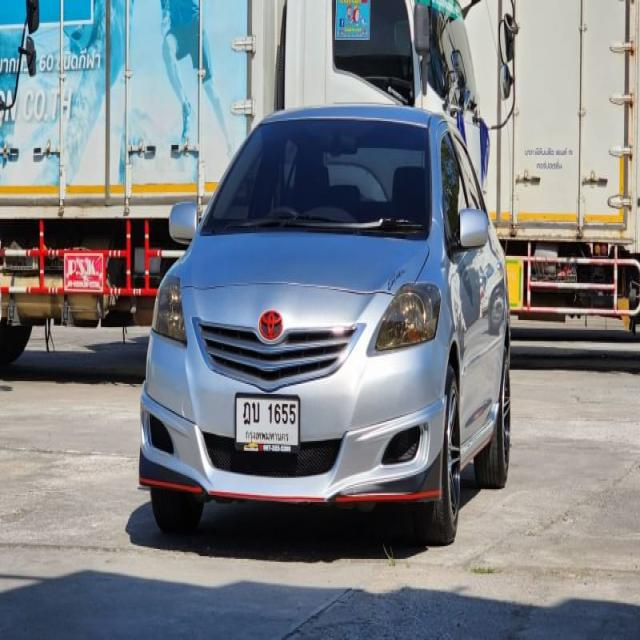license_plate: (232, 394, 301, 468)
